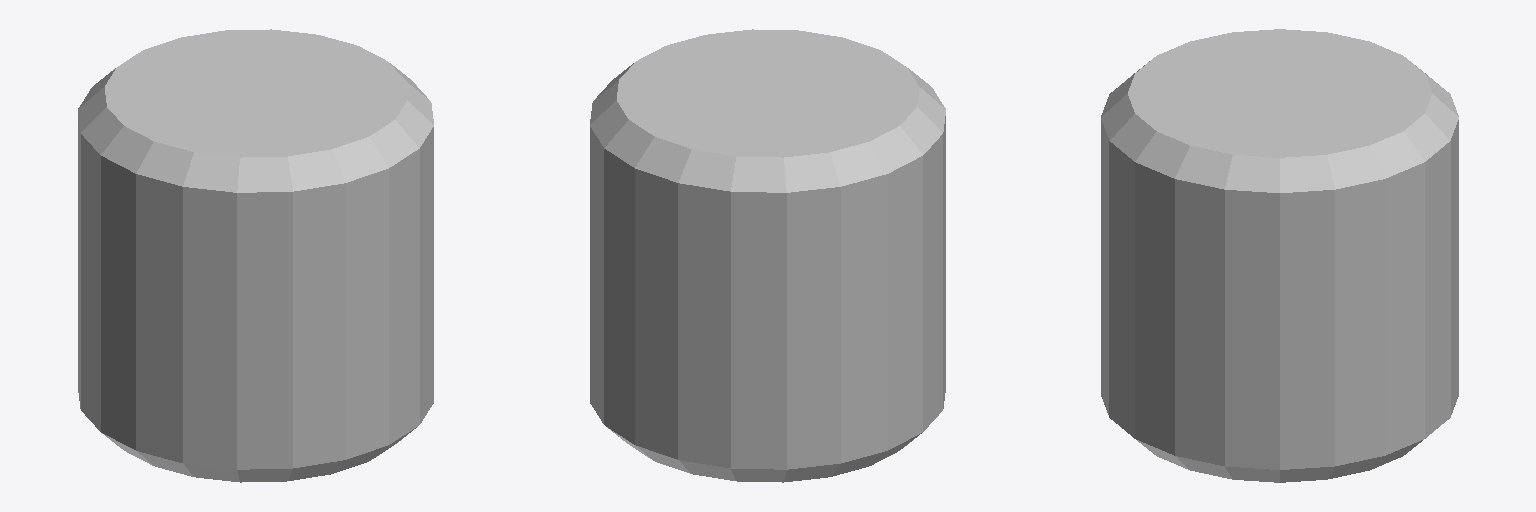
The model's file is GOAT Marshmallow.obj.
The picture shows the model from 3 angles: view 1: azimuth 30°, elevation 25°; view 2: azimuth 150°, elevation 25°; view 3: azimuth 270°, elevation 25°; orthographic projection.
Visible parts, largest first — view 1: pCylinder1; view 2: pCylinder1; view 3: pCylinder1.
Boxes of the visible parts, x1,y1,x2,y2 form: pCylinder1: [78, 29, 433, 482]; pCylinder1: [590, 29, 945, 482]; pCylinder1: [1101, 29, 1458, 482].
Bounding box in the file's own units: 2 × 2 × 2.